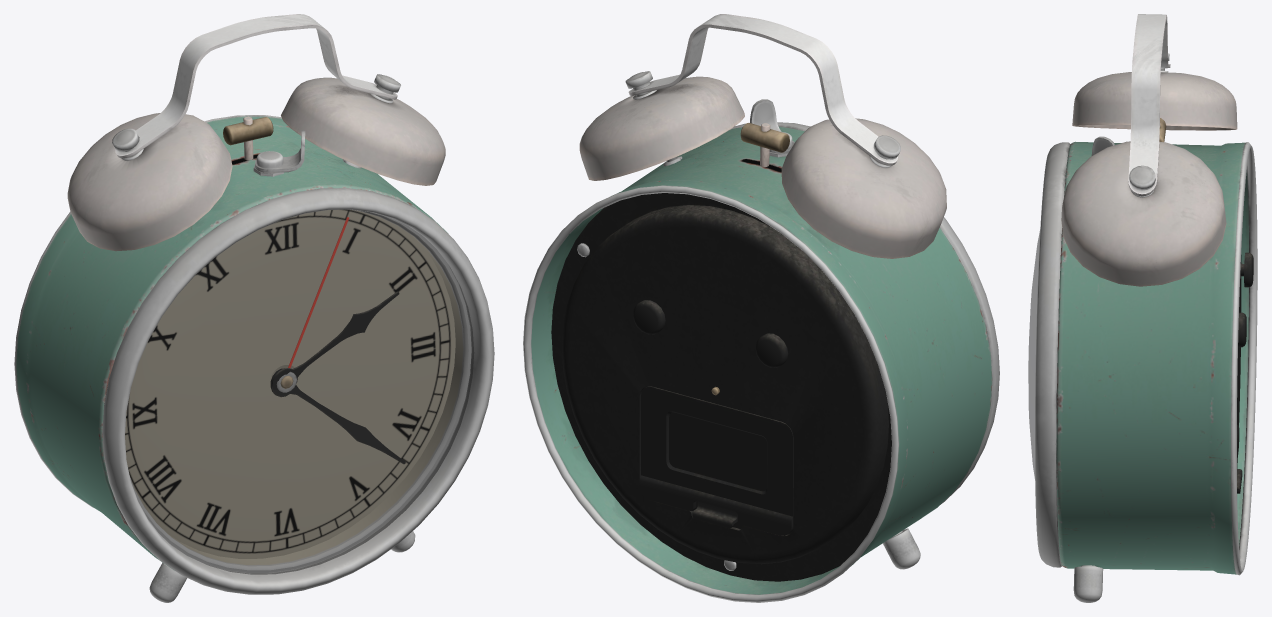
Rendered from AlarmClock.glb.
The picture shows the model from 3 angles, left to right: view 1: azimuth 30°, elevation 25°; view 2: azimuth 150°, elevation 25°; view 3: azimuth 270°, elevation 25°; orthographic projection. The views are drawn at different scales.
Parts seen in each view (by area): view 1: alarm_clock_01_glass; view 2: alarm_clock_01_glass; view 3: alarm_clock_01_glass.
Part boxes in pixels (x1,y1,x2,y2): alarm_clock_01_glass: [14, 14, 494, 602]; alarm_clock_01_glass: [523, 14, 999, 602]; alarm_clock_01_glass: [1028, 14, 1257, 602].
Bounding box in the file's own units: 0.133 × 0.1742 × 0.0695.
Materials: 2 (1 with a texture image).
